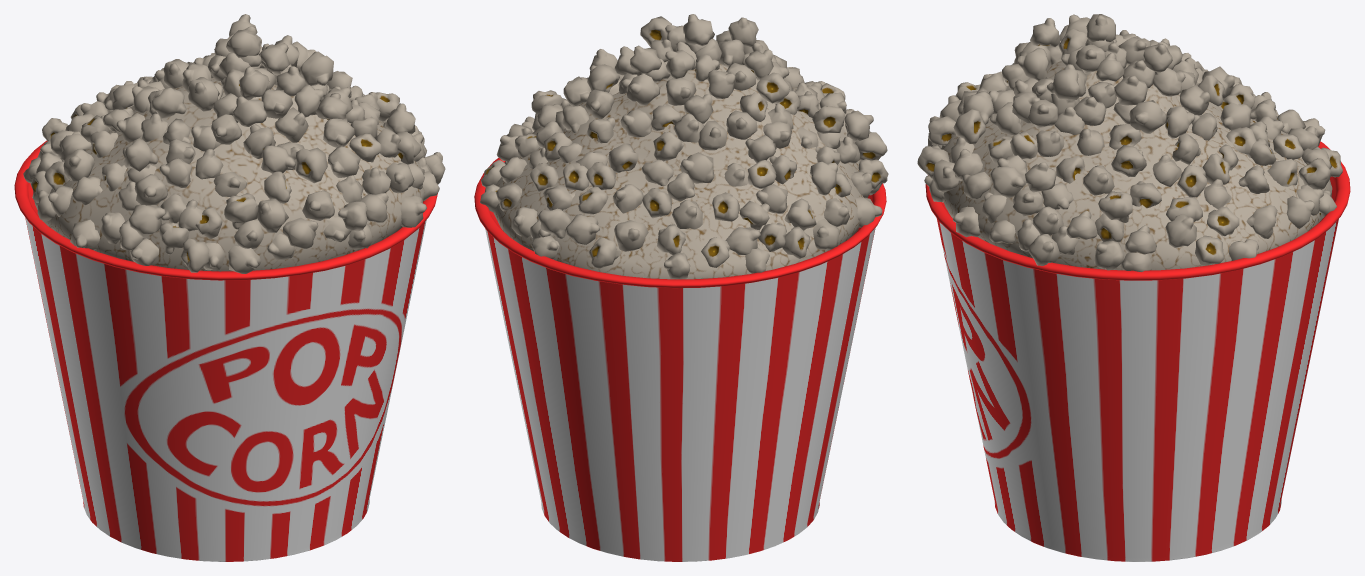
File: popcorn_bucket.glb
3 renders of one model, left to right at view 1: azimuth 30°, elevation 25°; view 2: azimuth 150°, elevation 25°; view 3: azimuth 270°, elevation 25°, orthographic. The views are drawn at different scales.
Visible parts, largest first — view 1: node_id77_1; view 2: node_id77_1; view 3: node_id77_1.
Part boxes in pixels (bbox=[...]): node_id77_1: bbox=[14, 14, 445, 561]; node_id77_1: bbox=[474, 14, 888, 561]; node_id77_1: bbox=[917, 14, 1350, 561].
Bounding box in the file's own units: 0.403 × 0.512 × 0.4107.
1 material, 1 textured.
